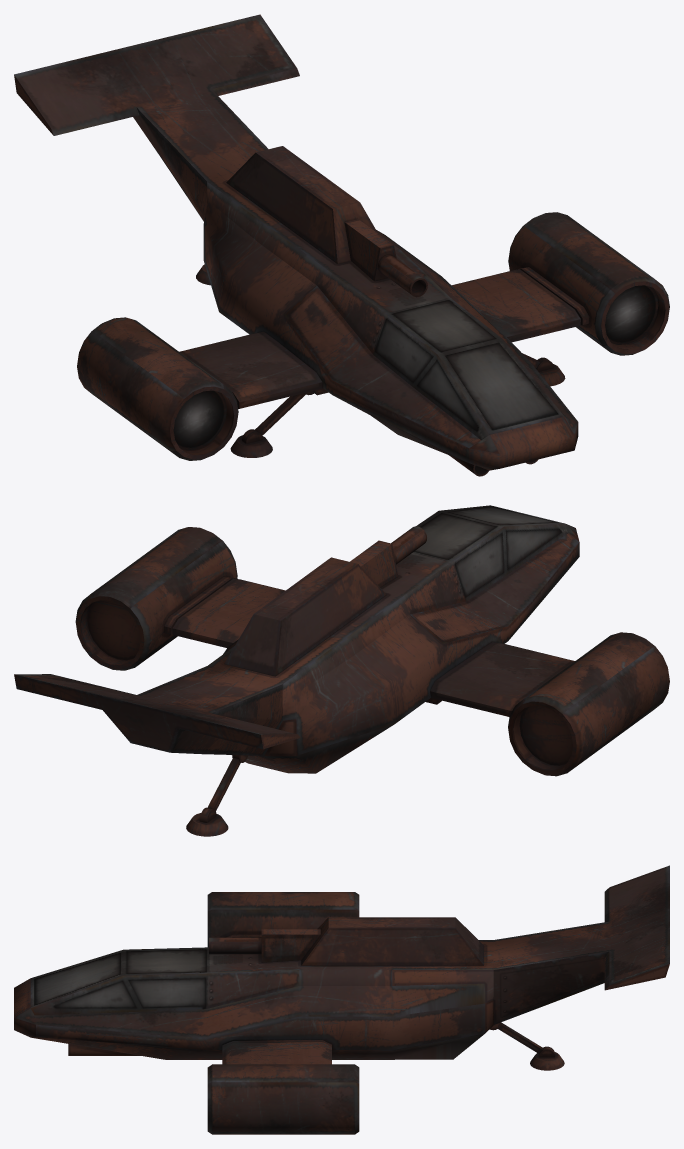
Rendered from SpaceFrigate.FBX.
3 views of the same model, one above another, from view 1: azimuth 30°, elevation 25°; view 2: azimuth 150°, elevation 25°; view 3: azimuth 270°, elevation 25° (orthographic). The views are drawn at different scales.
Parts seen in each view (by area): view 1: SpaceFrigate; view 2: SpaceFrigate; view 3: SpaceFrigate.
Boxes of the visible parts, x1,y1,x2,y2 form: SpaceFrigate: (14, 14, 669, 476); SpaceFrigate: (14, 505, 669, 836); SpaceFrigate: (14, 865, 669, 1134).
Size of the model in its own units: 1.29 by 0.4367 by 1.77.
